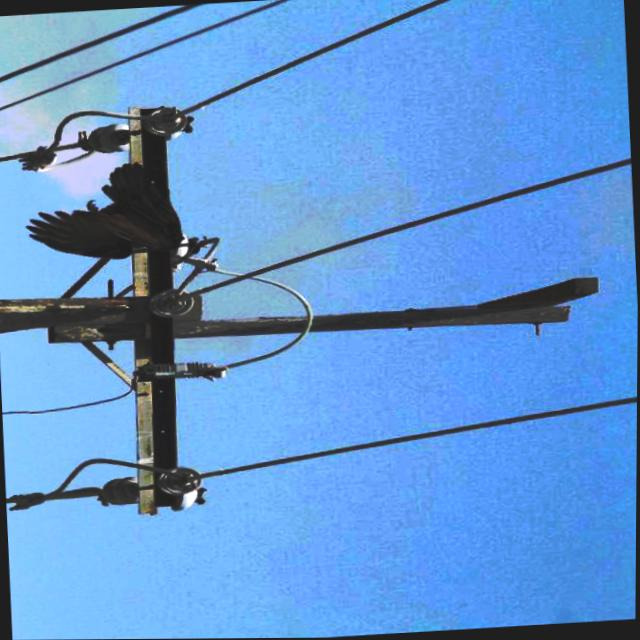obstruction: (26, 134, 181, 256)
poles: (0, 126, 596, 516)
wires: (0, 0, 451, 189), (230, 157, 631, 279), (196, 398, 638, 480), (0, 6, 201, 82), (7, 488, 98, 508)
